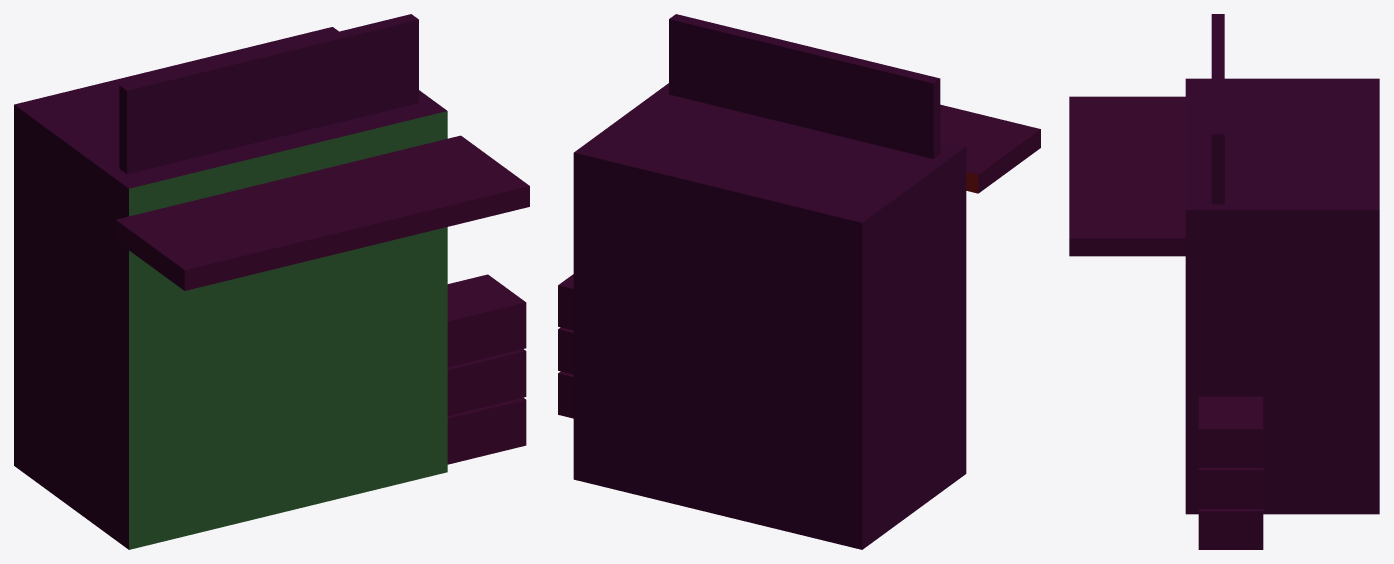
File: kiosk_a.glb
3 views of the same model, side by side, from view 1: azimuth 30°, elevation 25°; view 2: azimuth 150°, elevation 25°; view 3: azimuth 270°, elevation 25° (orthographic). The views are drawn at different scales.
Visible parts, largest first — view 1: kiosk_a; view 2: kiosk_a; view 3: kiosk_a.
Boxes of the visible parts, left/top/right/bottom form: kiosk_a: left=14, top=14, right=529, bottom=549; kiosk_a: left=558, top=14, right=1040, bottom=549; kiosk_a: left=1069, top=14, right=1379, bottom=549.
Size of the model in its own units: 3.15 by 3.2 by 2.4.
